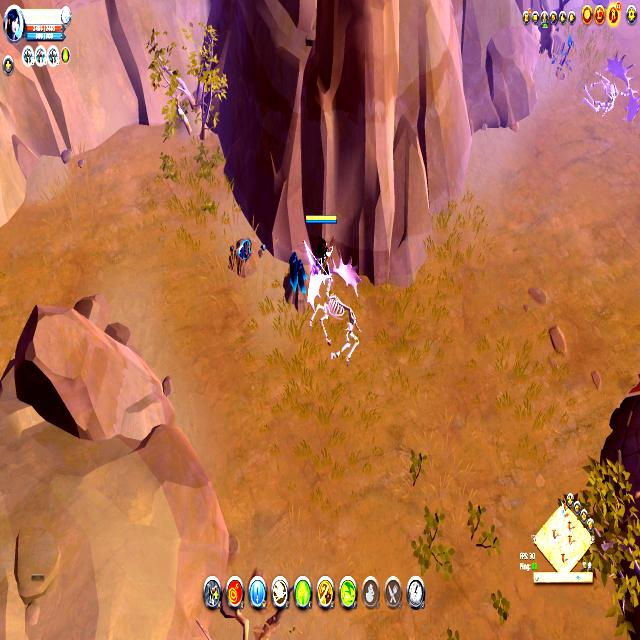player: (285, 249, 314, 310)
red: (304, 210, 338, 281)
